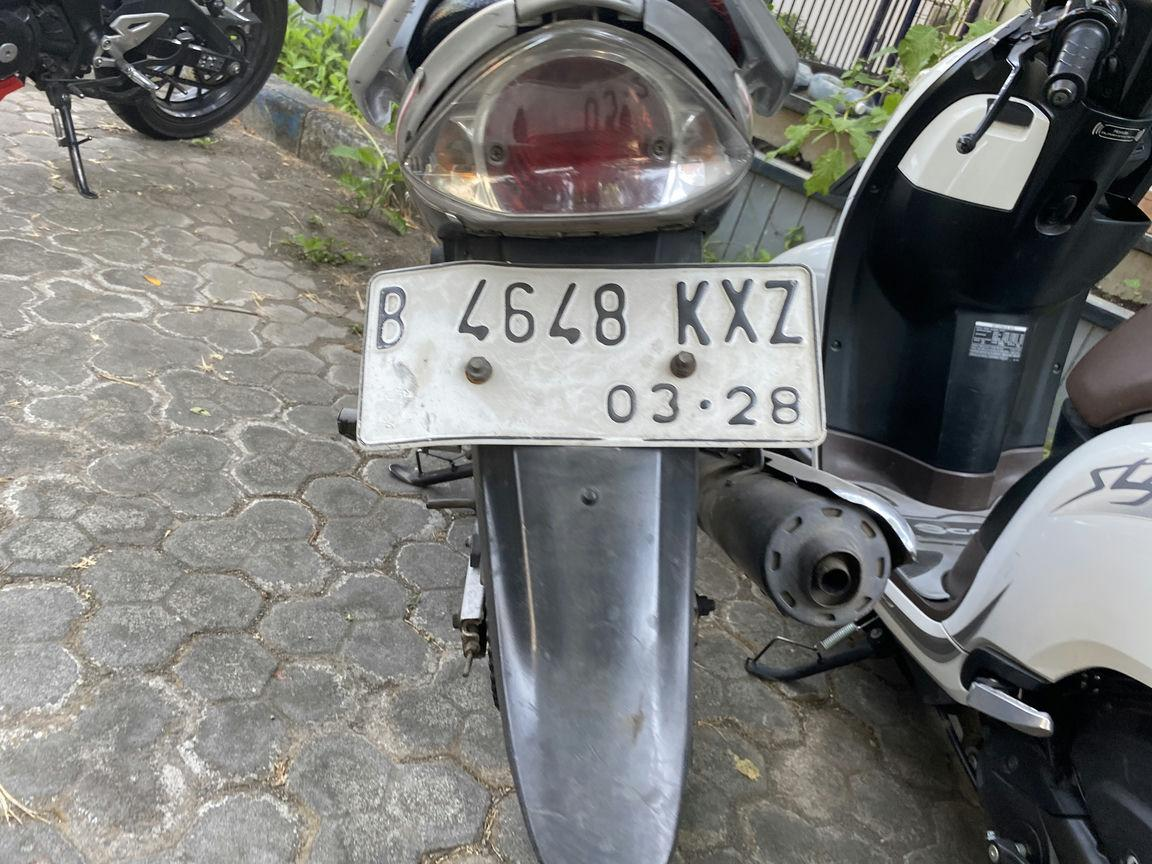plat: (358, 263, 826, 448)
